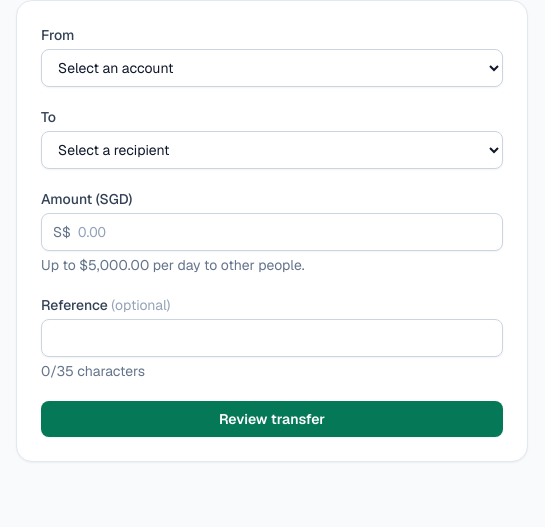
Scenario: <TransferFlow /> › shows validation errors before review
The width and height of the screenshot is (545, 527).
Click the button "Review transfer". click: click(272, 419)
box: x1=41 y1=401 x2=503 y2=437
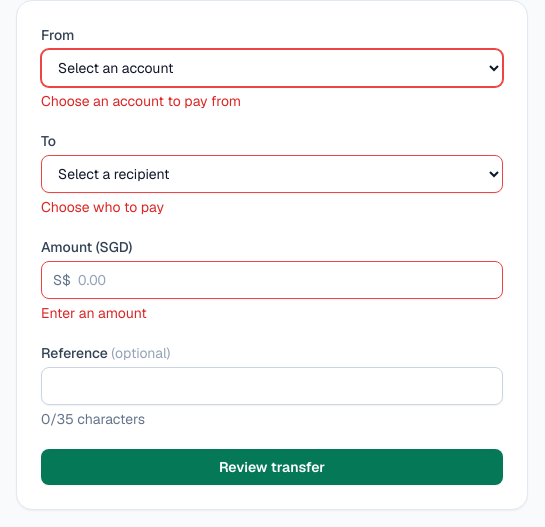
expect the text "Choose an account to pay from" is shown: met, box x1=41 y1=92 x2=241 y2=110
expect the text "Choose who to pay" is shown: met, box x1=41 y1=198 x2=164 y2=216
expect the text "Enter an amount" is shown: met, box x1=41 y1=304 x2=147 y2=322
